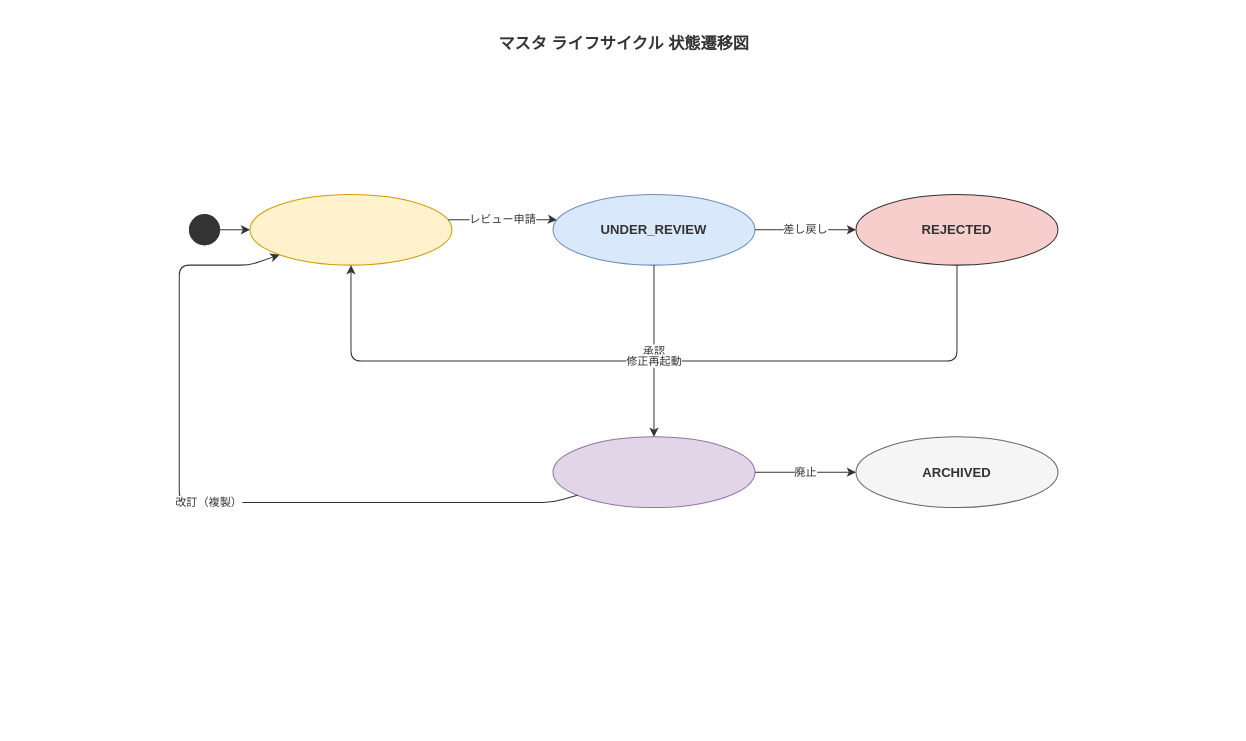
This 1246x741 diagram has some shape labels left out. Here are the shapes that lost their labels. From the top down, the box of each, then its label:
(249, 193, 452, 265): DRAFT
(552, 436, 755, 508): PUBLISHED
